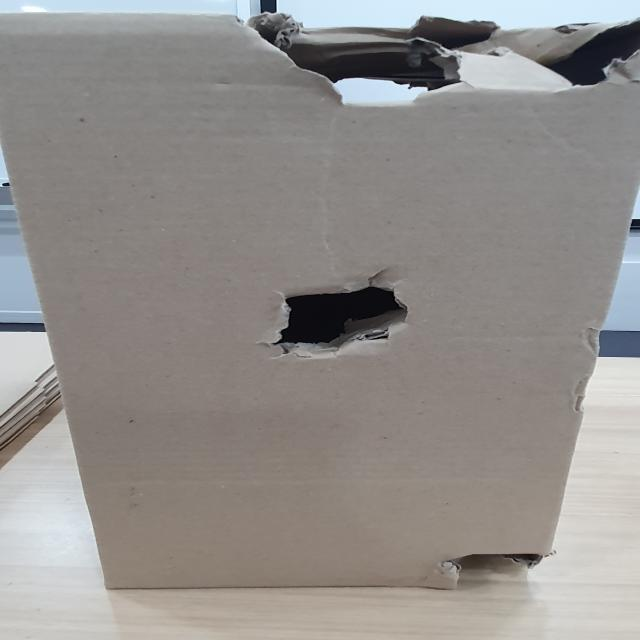hole: (230, 10, 640, 104), (272, 275, 415, 357), (434, 540, 552, 592)
